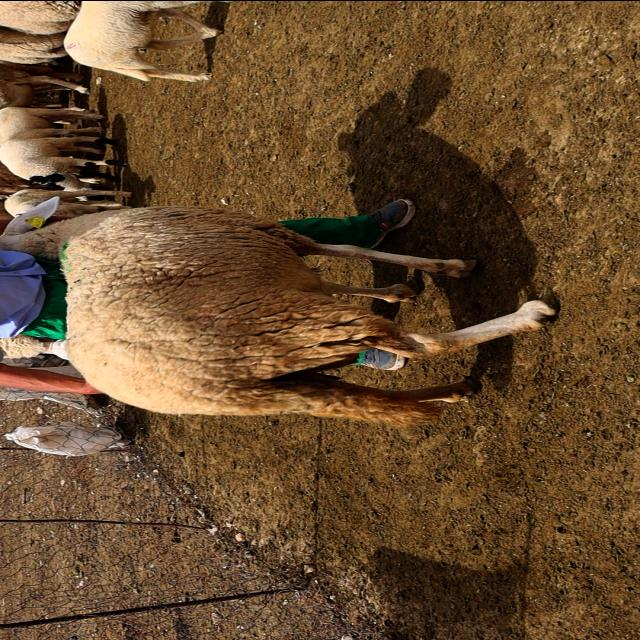Score_3: (0, 197, 556, 426)
